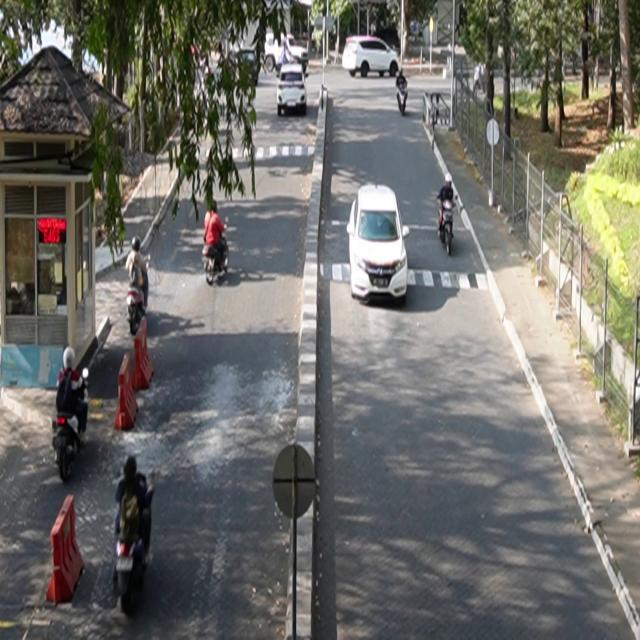car: (348, 183, 411, 304), (343, 36, 401, 79), (277, 65, 308, 117)
